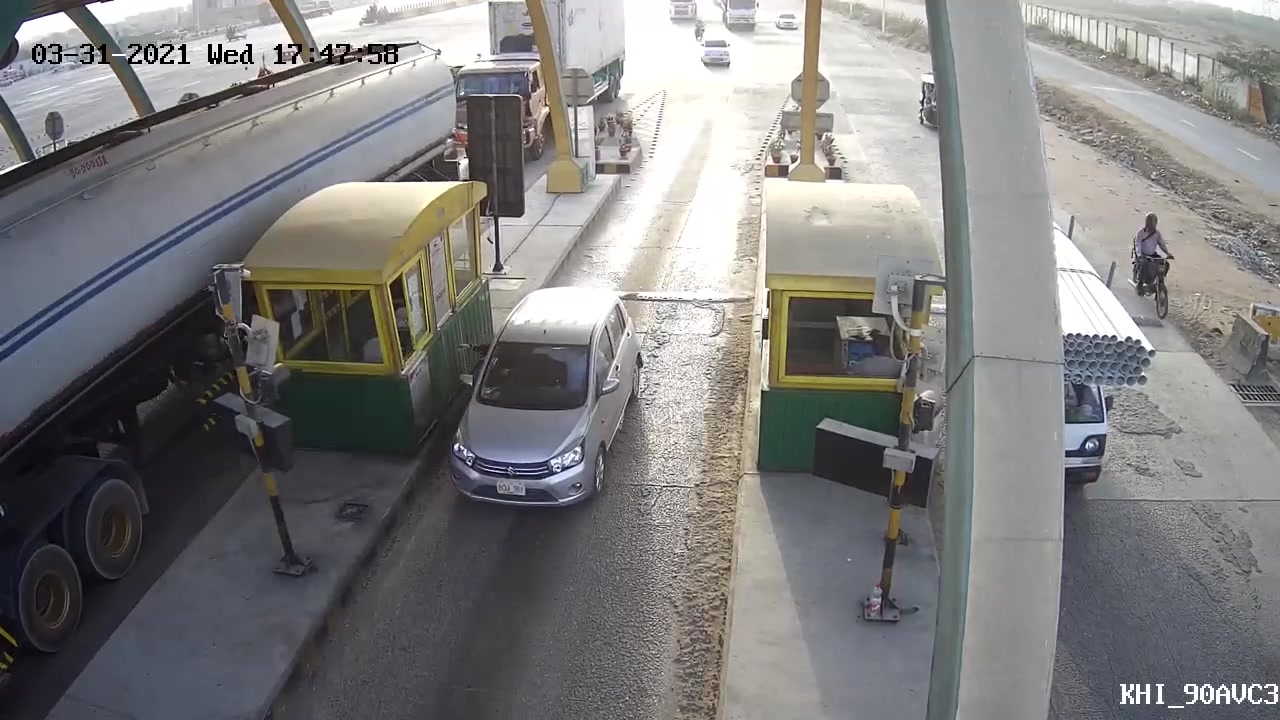F1: (437, 282, 652, 522)
